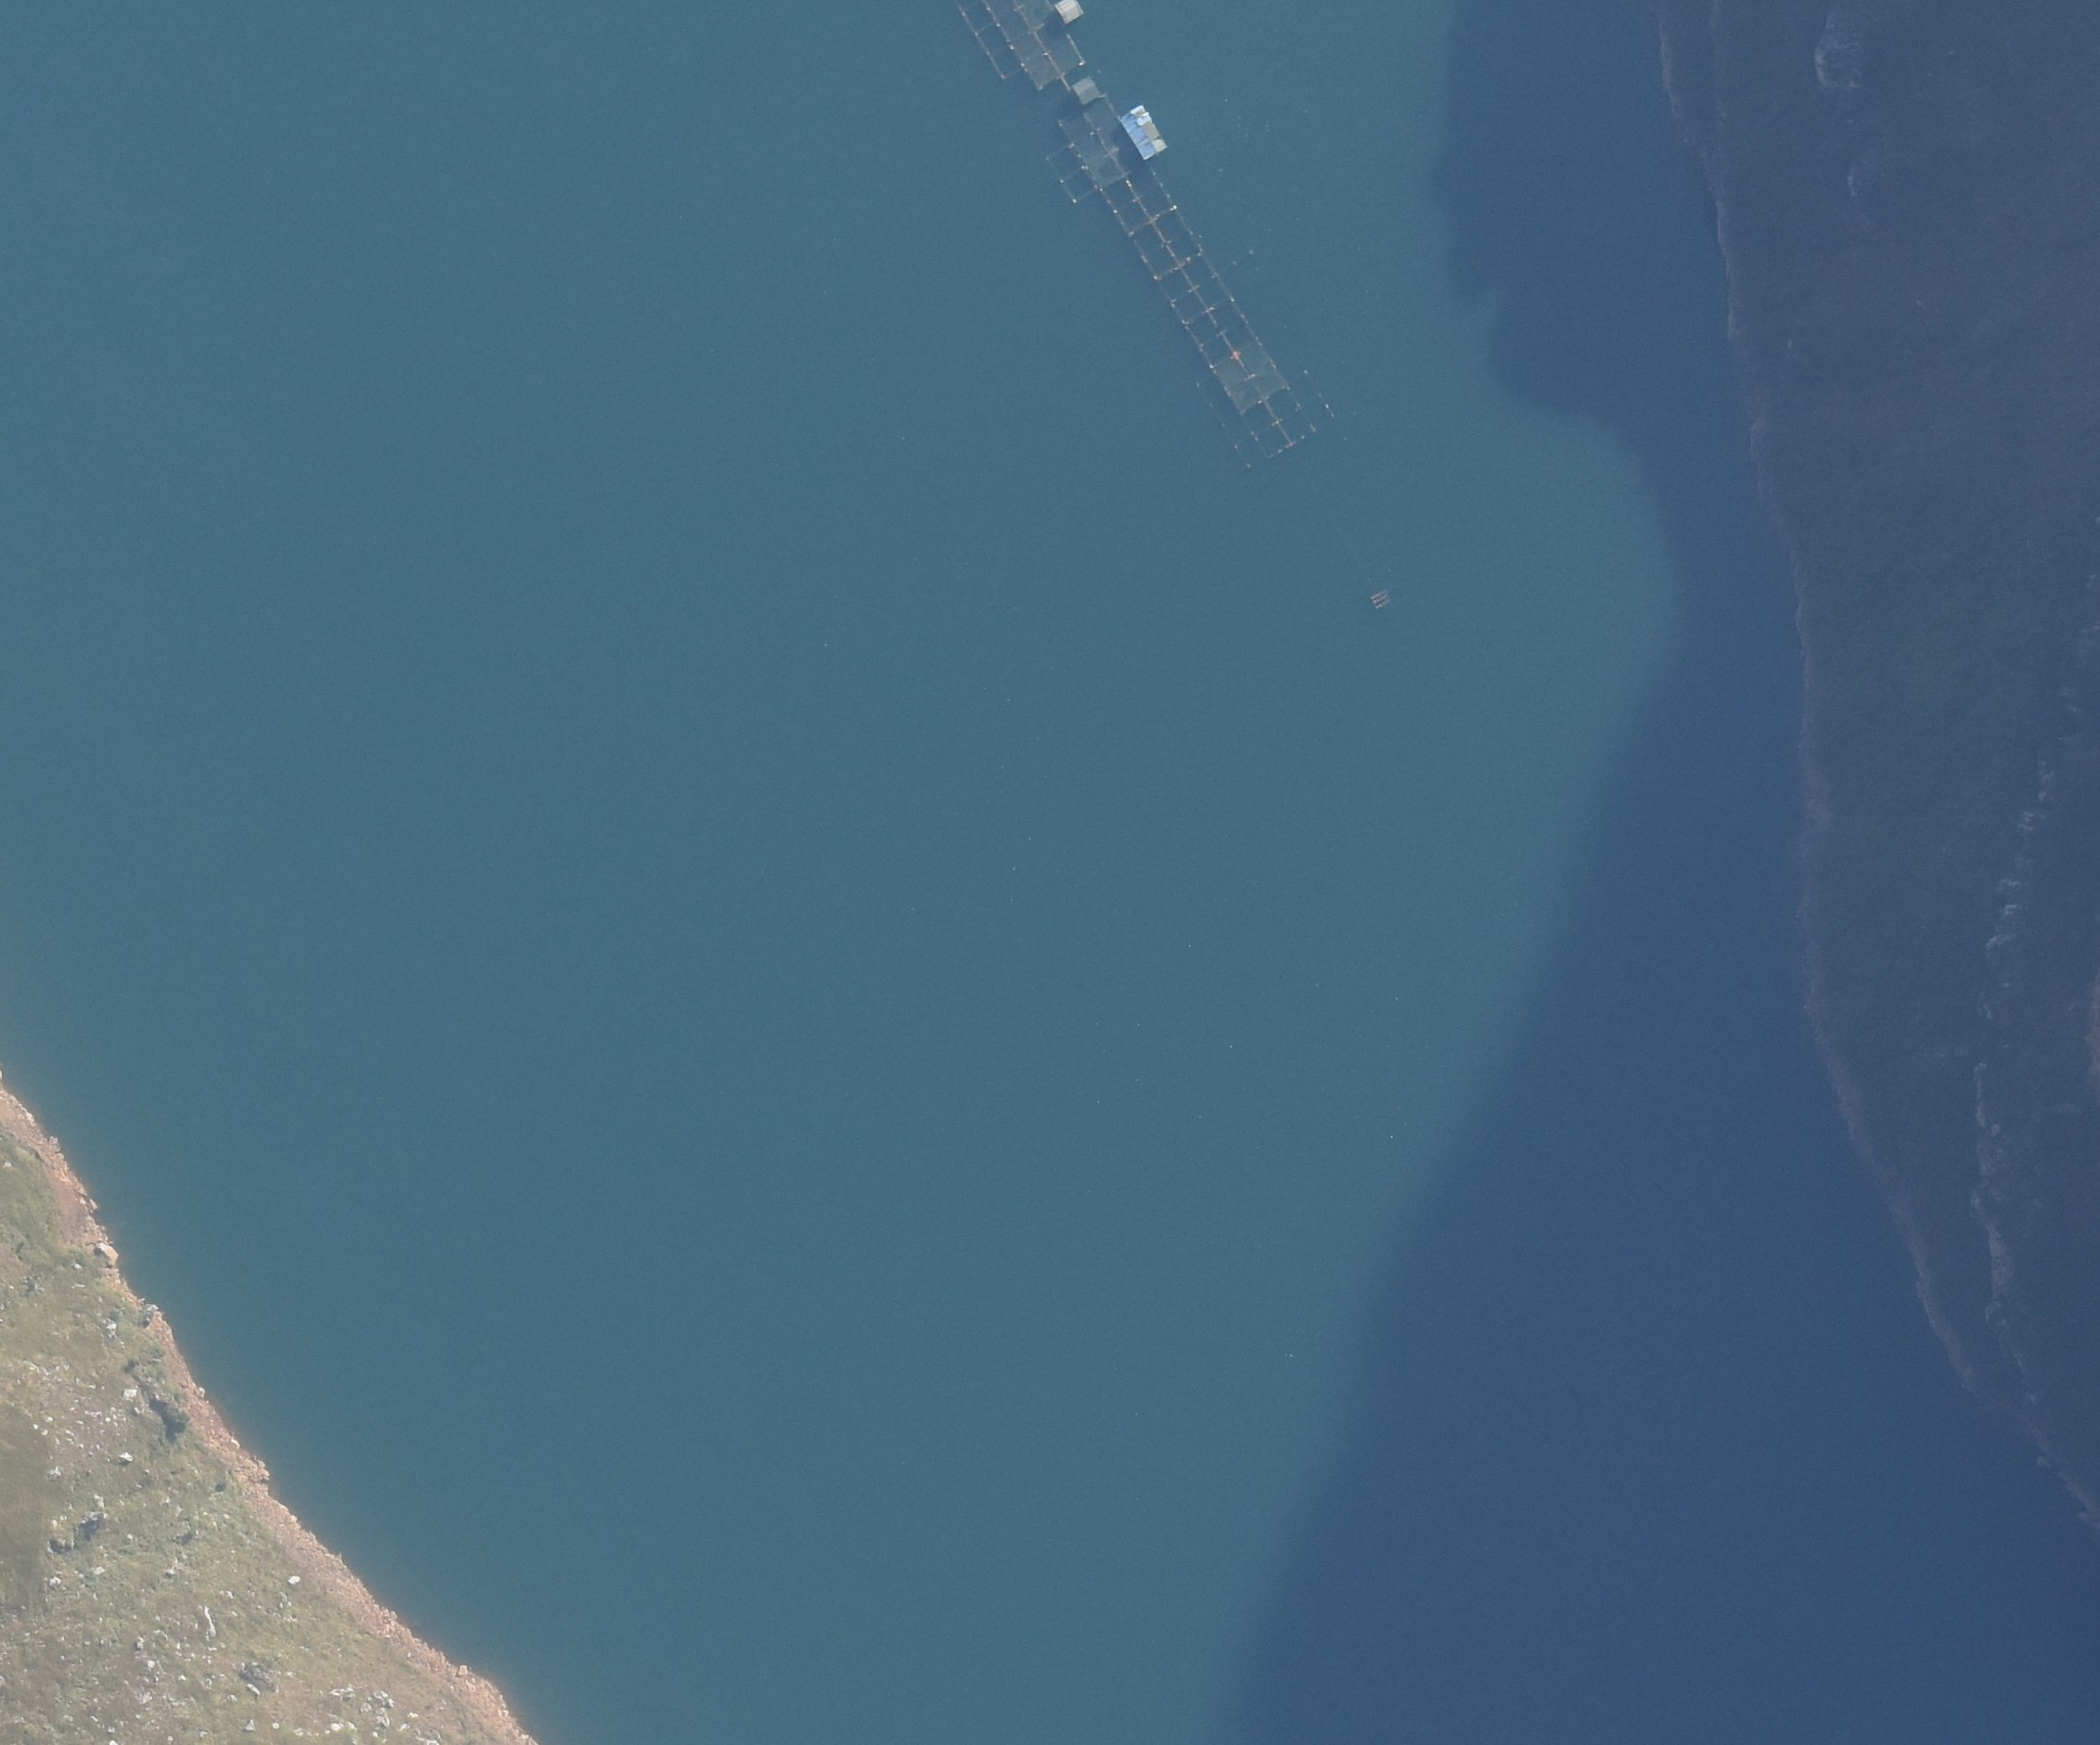cultivation-mesh-cage: (1051, 92, 1334, 470), (953, 2, 1089, 88)
prefabricated-house: (1122, 105, 1169, 160), (1072, 75, 1097, 108), (1056, 2, 1083, 25)
